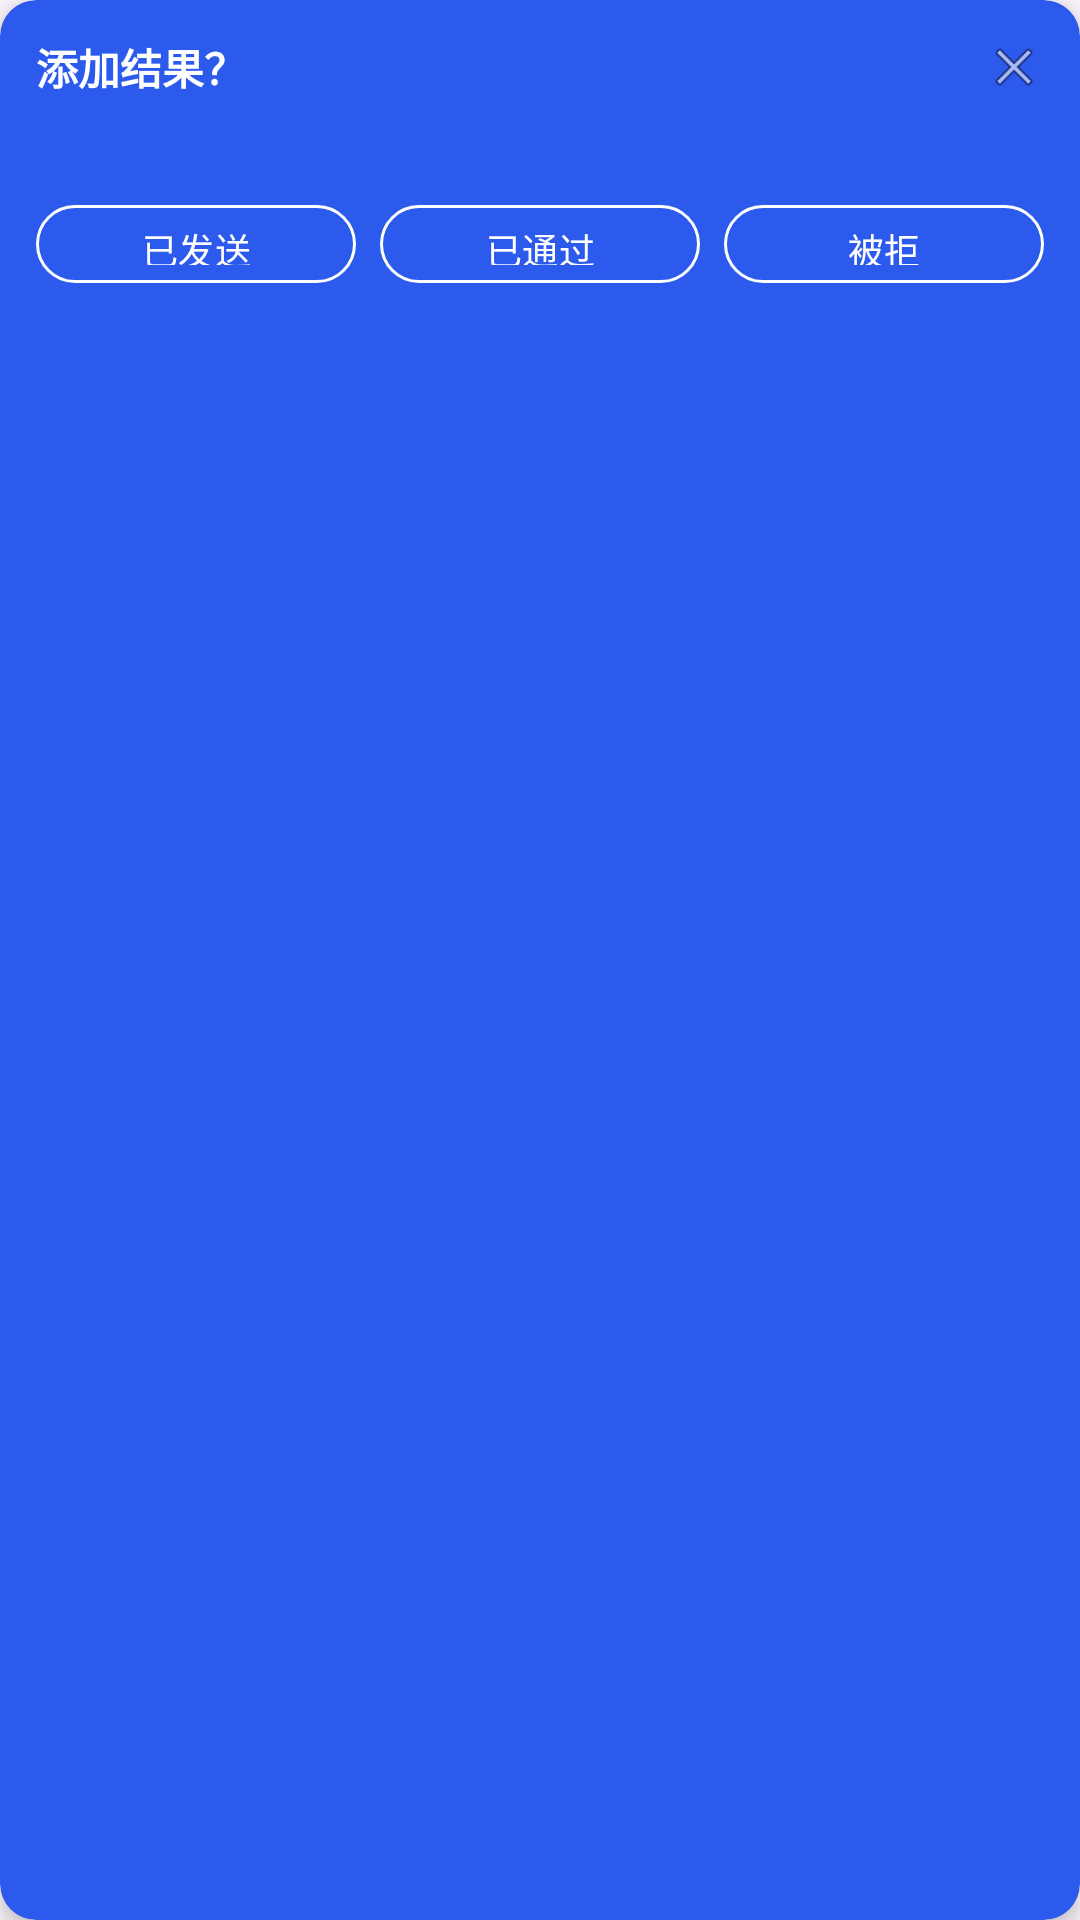

Icons on this 1080*1920 Android screen, each with the point to tap as [x,y]:
关闭: [1014,67]
